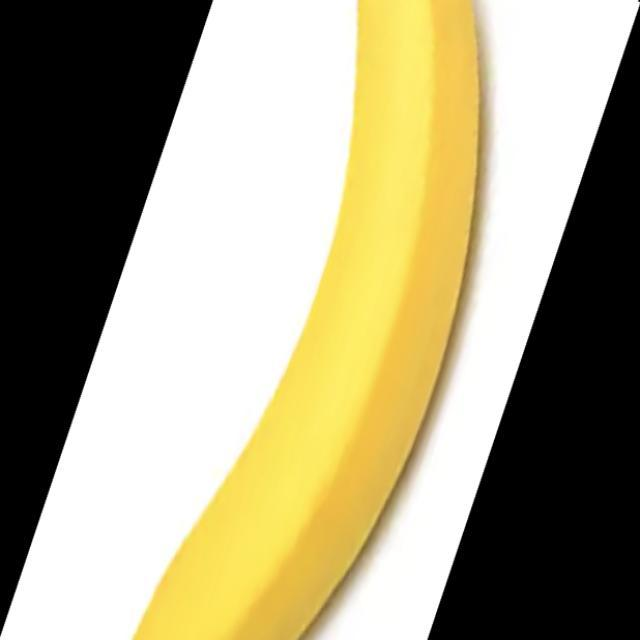Banana: (121, 0, 481, 639)
